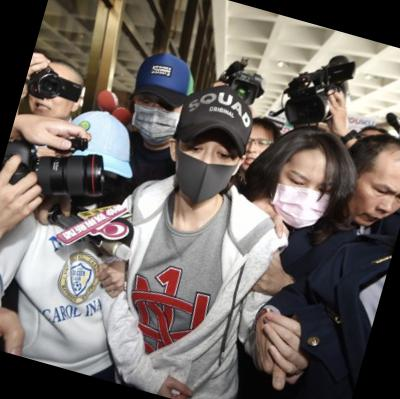with_mask: (161, 126, 244, 217), (264, 163, 337, 234), (124, 91, 186, 152)
without_mask: (342, 170, 400, 238), (24, 67, 83, 125), (239, 131, 274, 176)
